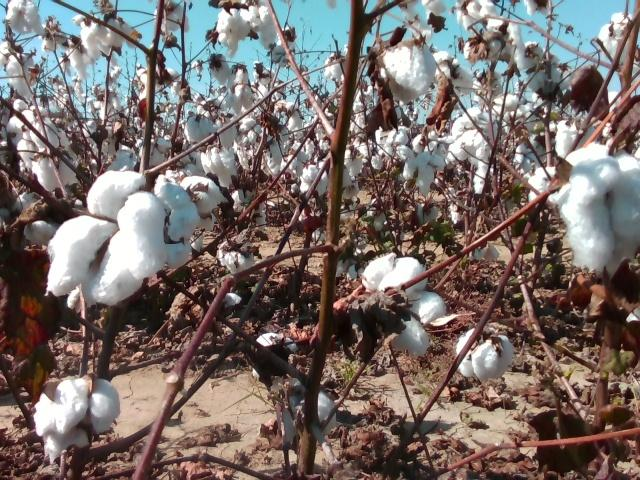cotton_ready: (46, 171, 166, 304), (549, 142, 640, 272), (362, 253, 444, 357), (34, 378, 121, 463), (529, 122, 610, 204), (154, 173, 200, 268), (378, 40, 436, 102), (0, 191, 56, 247), (456, 329, 514, 379), (290, 380, 338, 433), (451, 106, 496, 162), (181, 177, 226, 232), (252, 332, 298, 379), (599, 12, 636, 65), (489, 16, 524, 72), (31, 149, 79, 189), (432, 50, 474, 95), (7, 109, 36, 174), (404, 150, 444, 194), (217, 6, 252, 56), (241, 1, 277, 48), (399, 0, 435, 43), (4, 0, 46, 36), (7, 52, 34, 99), (81, 19, 113, 58), (456, 0, 499, 29), (220, 238, 255, 272), (69, 39, 96, 83), (528, 68, 574, 92), (414, 131, 452, 160), (200, 146, 236, 176), (464, 29, 502, 57), (154, 4, 189, 34), (267, 125, 292, 166), (186, 113, 219, 143), (104, 16, 134, 48), (31, 116, 60, 149), (473, 72, 503, 102), (225, 84, 254, 115), (383, 131, 413, 159), (513, 144, 541, 173), (147, 138, 173, 169), (106, 149, 140, 172), (137, 67, 160, 101), (239, 117, 262, 142), (495, 92, 521, 112), (526, 42, 545, 69), (421, 0, 449, 18), (525, 0, 553, 17), (0, 42, 14, 66)
